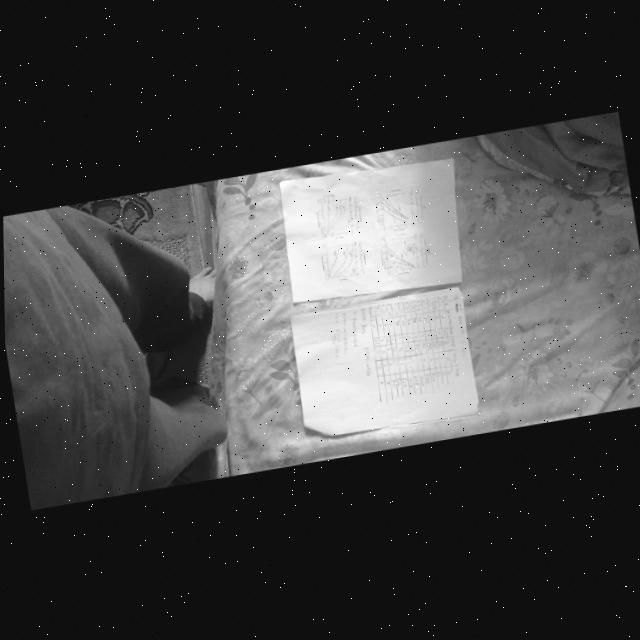document: (291, 287, 478, 435), (280, 158, 462, 302)
